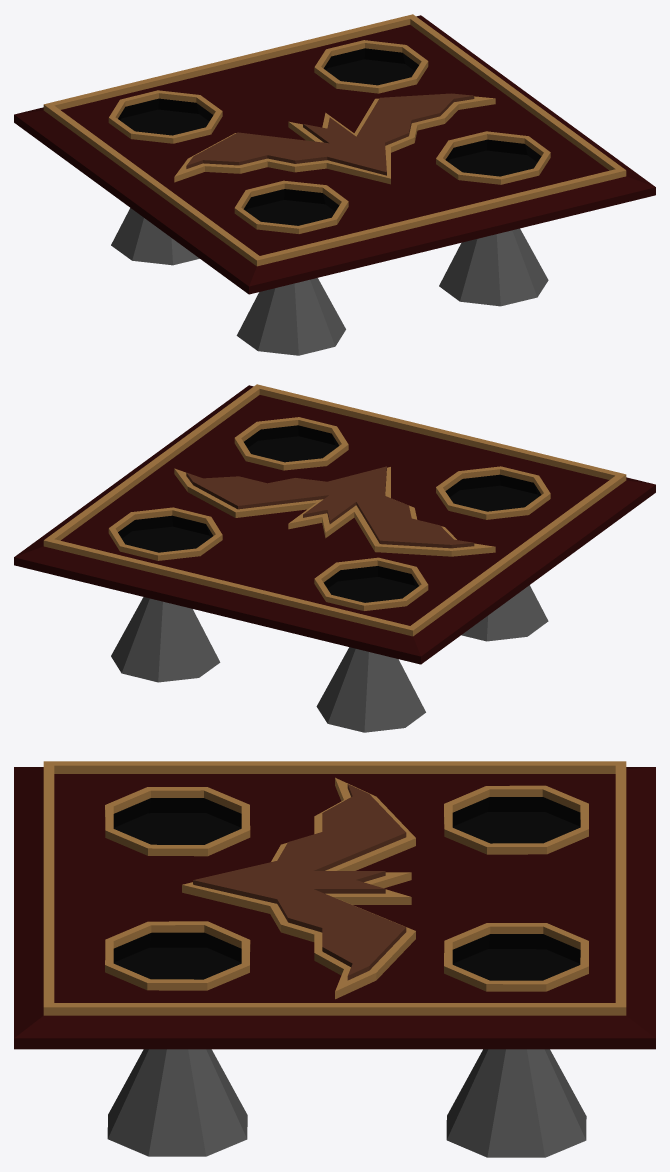
Rendered from thorn_trap.fbx.
The picture shows the model from 3 angles, top to bottom: view 1: azimuth 30°, elevation 25°; view 2: azimuth 150°, elevation 25°; view 3: azimuth 270°, elevation 25°; orthographic projection. The views are drawn at different scales.
Visible parts, largest first — view 1: Trap, Thorns; view 2: Trap, Thorns; view 3: Trap, Thorns.
Boxes of the visible parts, x1,y1,x2,y2 form: Trap: (14,14,655,294); Thorns: (111,208,548,355); Trap: (14,384,655,664); Thorns: (111,585,548,732); Trap: (14,761,655,1049); Thorns: (107,1049,586,1157).
Bounding box in the file's own units: 505 × 156 × 505.
